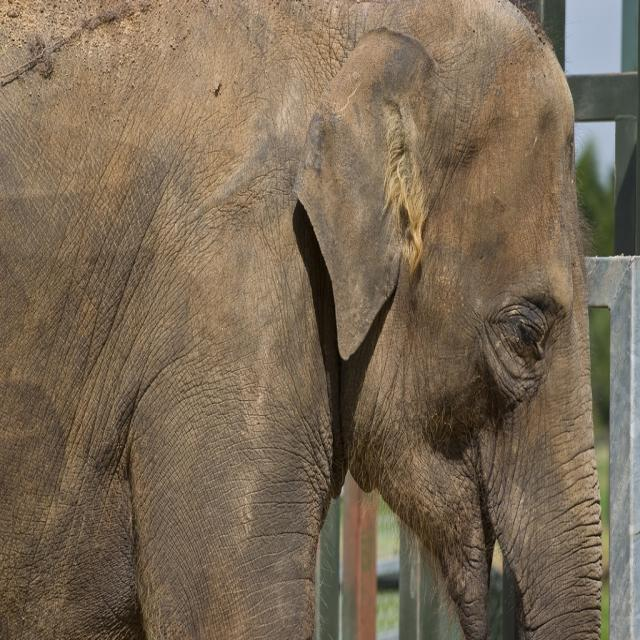Elephant: (0, 0, 602, 639)
